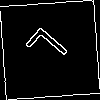L: (25, 25, 77, 76)
